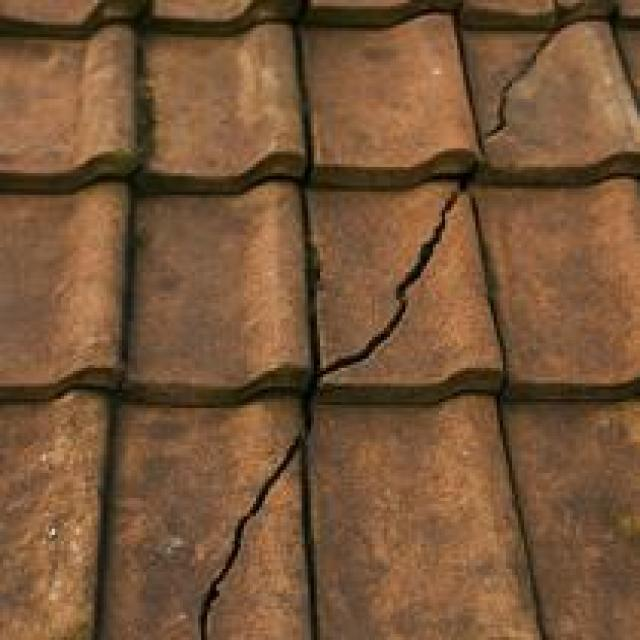fissure: (192, 3, 588, 636)
